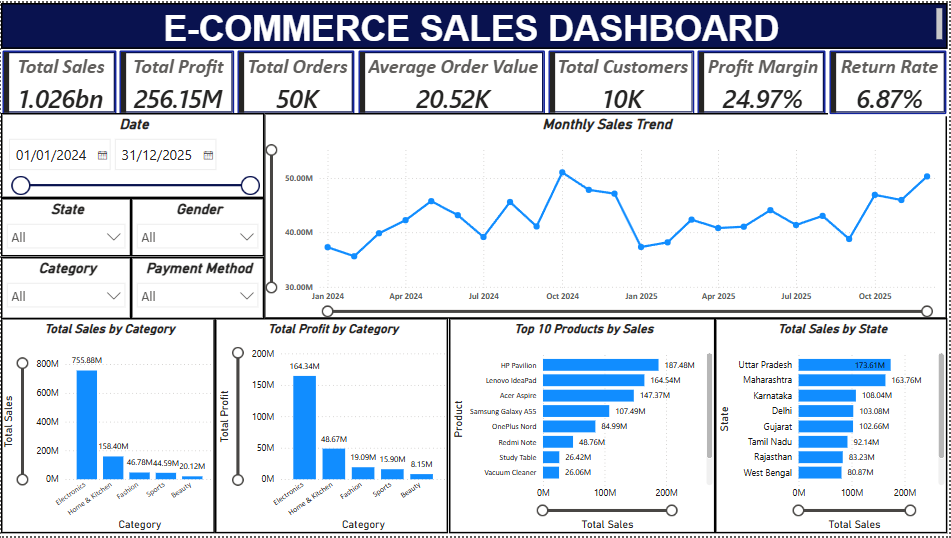

Layout of this report page (visuals, bound fields, positions):
{"tool":"powerbi","page":{"name":"Overview","canvas":[1280,720],"ordinal":0},"visuals":[{"type":"textbox","title":"e comm","box":[0,0,1278.7,61.9],"z":1000},{"type":"cardVisual","title":"Total Sales","fields":{"Data":["e_commerce_sales_cleaned.Total_Sales"]},"box":[0,61.9,158.4,90.7],"z":2000},{"type":"cardVisual","title":"Total Profit","fields":{"Data":["e_commerce_sales_cleaned.Total_Profit"]},"box":[158.4,61.9,159.8,90.7],"z":3000},{"type":"cardVisual","fields":{"Data":["e_commerce_sales_cleaned.Total_Orders"]},"box":[318.2,61.9,162.7,90.7],"z":4000},{"type":"cardVisual","fields":{"Data":["e_commerce_sales_cleaned.Total_Customers"]},"box":[737.3,61.9,201.6,90.7],"z":5000},{"type":"cardVisual","fields":{"Data":["e_commerce_sales_cleaned.Profit_Margin"]},"box":[938.9,61.9,177.1,90.7],"z":6000},{"type":"cardVisual","fields":{"Data":["e_commerce_sales_cleaned.AverageOrderValue"]},"box":[481,61.9,256.3,90.7],"z":7000},{"type":"lineChart","title":"Monthly Sales Trend","fields":{"Y":["e_commerce_sales_cleaned.Total_Sales"],"Category":["e_commerce_sales_cleaned.Order_Date.Variation.Date Hierarchy.Year","e_commerce_sales_cleaned.Order_Date.Variation.Date Hierarchy.Month"]},"box":[355.7,148.3,923,277.9],"z":8000},{"type":"clusteredColumnChart","title":"Total Sales by Category","fields":{"Category":["e_commerce_sales_cleaned.Category"],"Y":["e_commerce_sales_cleaned.Total_Sales"]},"box":[0,426.2,289.4,290.9],"z":9000},{"type":"clusteredColumnChart","title":"Total Profit by Category","fields":{"Category":["e_commerce_sales_cleaned.Category"],"Y":["e_commerce_sales_cleaned.Total_Profit"]},"box":[289.4,426.2,315.4,290.9],"z":10000},{"type":"barChart","title":"Top 10 Products by Sales","fields":{"Y":["e_commerce_sales_cleaned.Total_Sales"],"Category":["e_commerce_sales_cleaned.Product"]},"box":[604.8,426.2,360,290.9],"z":11000},{"type":"barChart","title":"Total Sales by State","fields":{"Y":["e_commerce_sales_cleaned.Total_Sales"],"Category":["e_commerce_sales_cleaned.State"]},"box":[964.8,426.2,313.9,290.9],"z":12000},{"type":"slicer","title":"Date","fields":{"Values":["DateTable.Date"]},"box":[0,148.3,355.7,115.2],"z":13000},{"type":"slicer","title":"Category","fields":{"Values":["e_commerce_sales_cleaned.Category"]},"box":[0,342.7,175.7,83.5],"z":14000},{"type":"slicer","title":"State","fields":{"Values":["e_commerce_sales_cleaned.State"]},"box":[0,263.5,175.7,79.2],"z":15000},{"type":"slicer","title":"Gender","fields":{"Values":["e_commerce_sales_cleaned.Gender"]},"box":[175.7,263.5,180,79.2],"z":16000},{"type":"slicer","title":"Payment Method","fields":{"Values":["e_commerce_sales_cleaned.Payment_Method"]},"box":[175.7,342.7,180,83.5],"z":17000},{"type":"cardVisual","fields":{"Data":["e_commerce_sales_cleaned.Return Rate"]},"box":[1117.4,61.9,162.7,90.7],"z":18000}]}

Visuals, with their boxes in screenshot pixels (x1, y1, x2, y2), scaled from the page's 1280x720 canvas onto the 951x538 screenshot:
"e comm" textbox: [0, 0, 950, 46]
"Total Sales" cardVisual: [0, 46, 118, 114]
"Total Profit" cardVisual: [118, 46, 236, 114]
cardVisual - e_commerce_sales_cleaned.Total_Orders: [236, 46, 357, 114]
cardVisual - e_commerce_sales_cleaned.Total_Customers: [548, 46, 698, 114]
cardVisual - e_commerce_sales_cleaned.Profit_Margin: [698, 46, 829, 114]
cardVisual - e_commerce_sales_cleaned.AverageOrderValue: [357, 46, 548, 114]
"Monthly Sales Trend" lineChart: [264, 111, 950, 318]
"Total Sales by Category" clusteredColumnChart: [0, 318, 215, 536]
"Total Profit by Category" clusteredColumnChart: [215, 318, 449, 536]
"Top 10 Products by Sales" barChart: [449, 318, 717, 536]
"Total Sales by State" barChart: [717, 318, 950, 536]
"Date" slicer: [0, 111, 264, 197]
"Category" slicer: [0, 256, 131, 318]
"State" slicer: [0, 197, 131, 256]
"Gender" slicer: [131, 197, 264, 256]
"Payment Method" slicer: [131, 256, 264, 318]
cardVisual - e_commerce_sales_cleaned.Return Rate: [830, 46, 950, 114]
